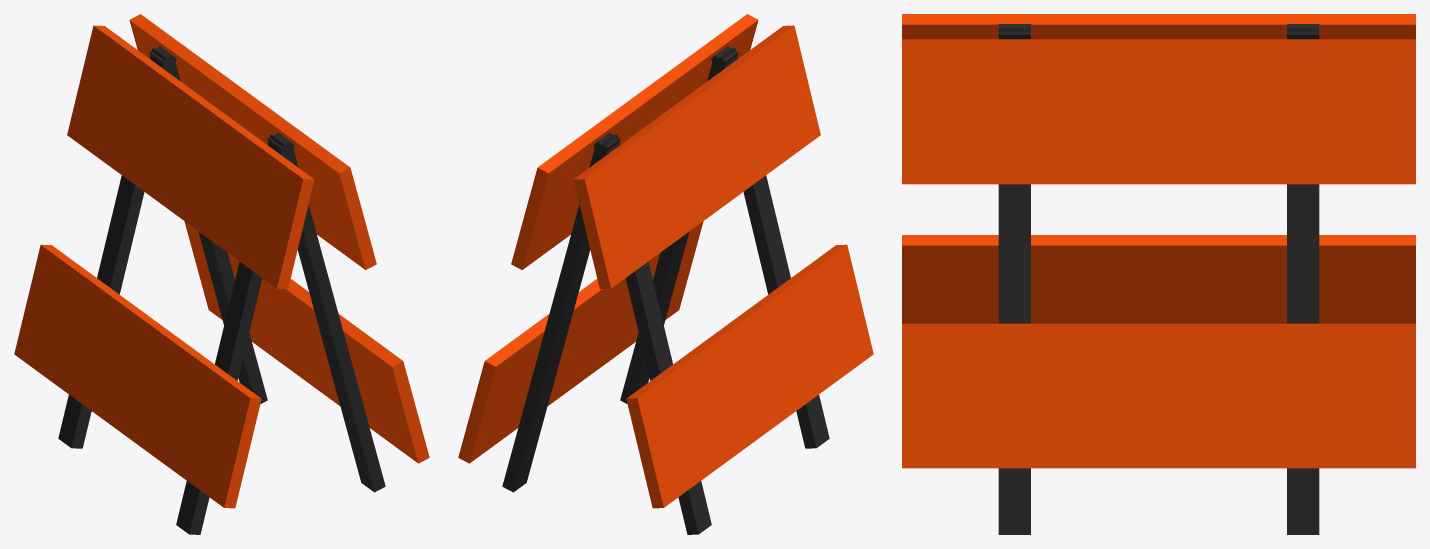
The model's file is STopInTheNameOfTheLaw_YouHaveCommittedCrimesAgainstSkyrimAndHerPeople.FBX.
3 views of the same model, side by side, from view 1: azimuth 30°, elevation 25°; view 2: azimuth 150°, elevation 25°; view 3: azimuth 270°, elevation 25° (orthographic). The views are drawn at different scales.
Parts seen in each view (by area): view 1: Object003, Object005, Object006, Object004; view 2: Object003, Object005, Object006, Object004; view 3: Object005, Object003, Object006, Object004.
Boxes of the visible parts, left/top/right/bottom form: Object003: left=14, top=25, right=314, bottom=508; Object005: left=129, top=14, right=429, bottom=463; Object006: left=149, top=46, right=385, bottom=492; Object004: left=58, top=48, right=294, bottom=534; Object003: left=573, top=25, right=873, bottom=508; Object005: left=458, top=14, right=758, bottom=463; Object006: left=502, top=46, right=738, bottom=492; Object004: left=593, top=48, right=829, bottom=534; Object005: left=902, top=39, right=1415, bottom=468; Object003: left=902, top=14, right=1415, bottom=323; Object006: left=998, top=28, right=1319, bottom=534; Object004: left=998, top=24, right=1319, bottom=38.
Bounding box in the file's own units: 3.34 × 5.74 × 5.89.
